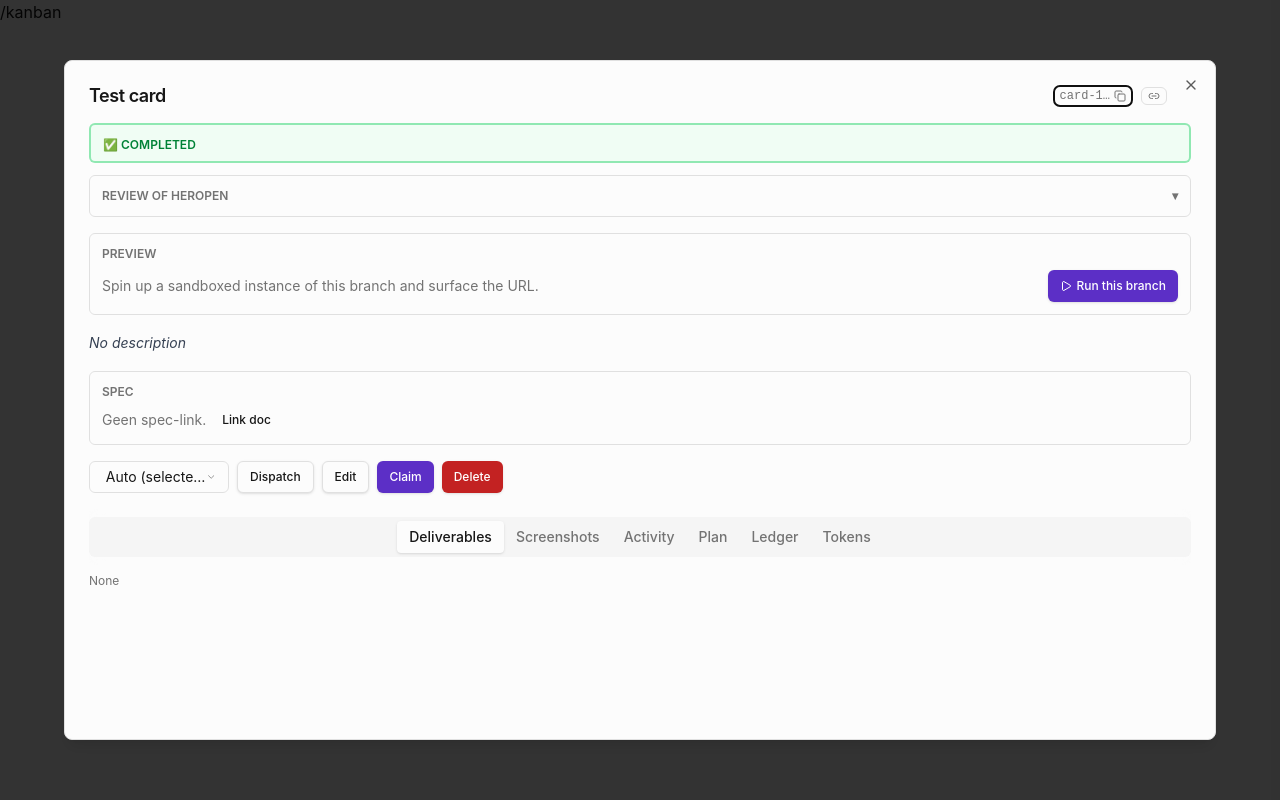
Test: CardDrawer Done actions panel — collapsed by default › expands the feedback control when the toggle is clicked, and collapses it again on a second click
// First click → expand
Click the button with test id "done-actions-toggle" at (165, 196), box [102,188,1178,204]
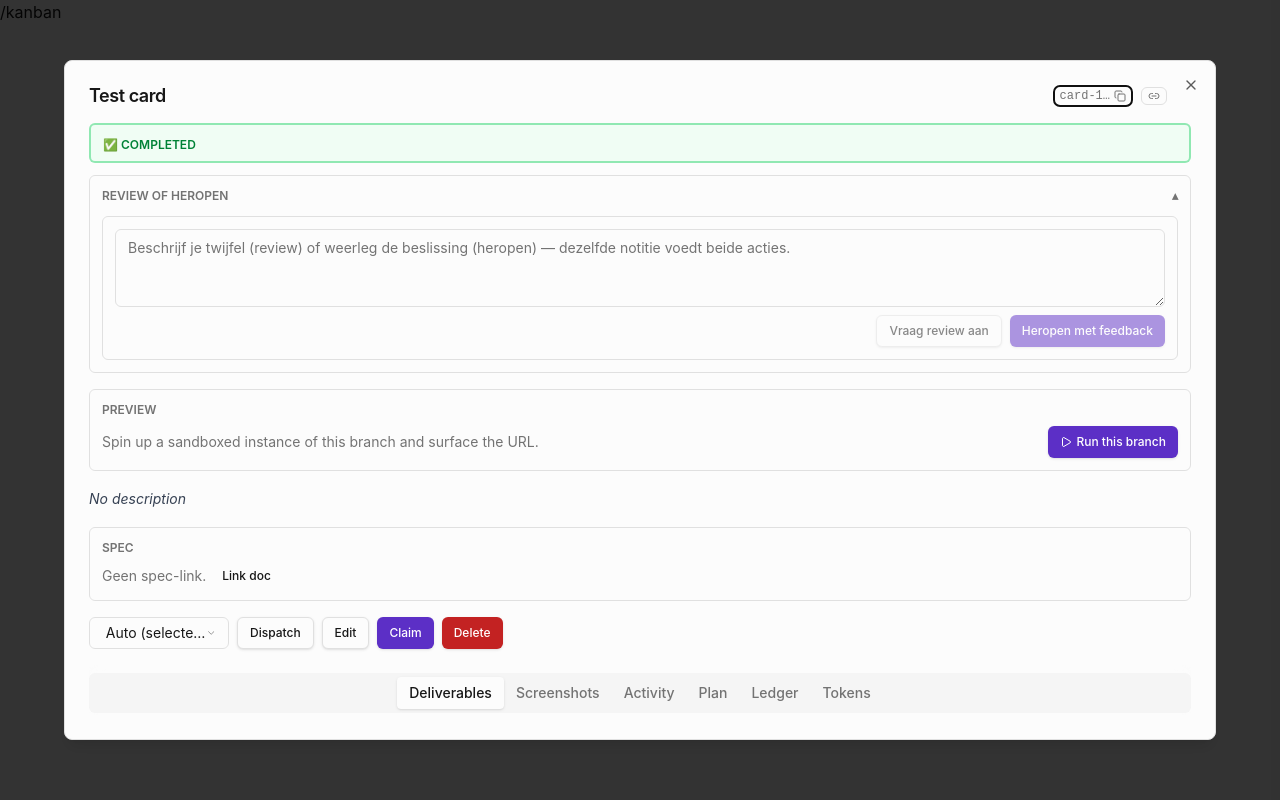
expect the element with test id "feedback-control" is shown: met, box [102,216,1178,360]
// Second click → collapse
Click the button with test id "done-actions-toggle" at (165, 196), box [102,188,1178,204]
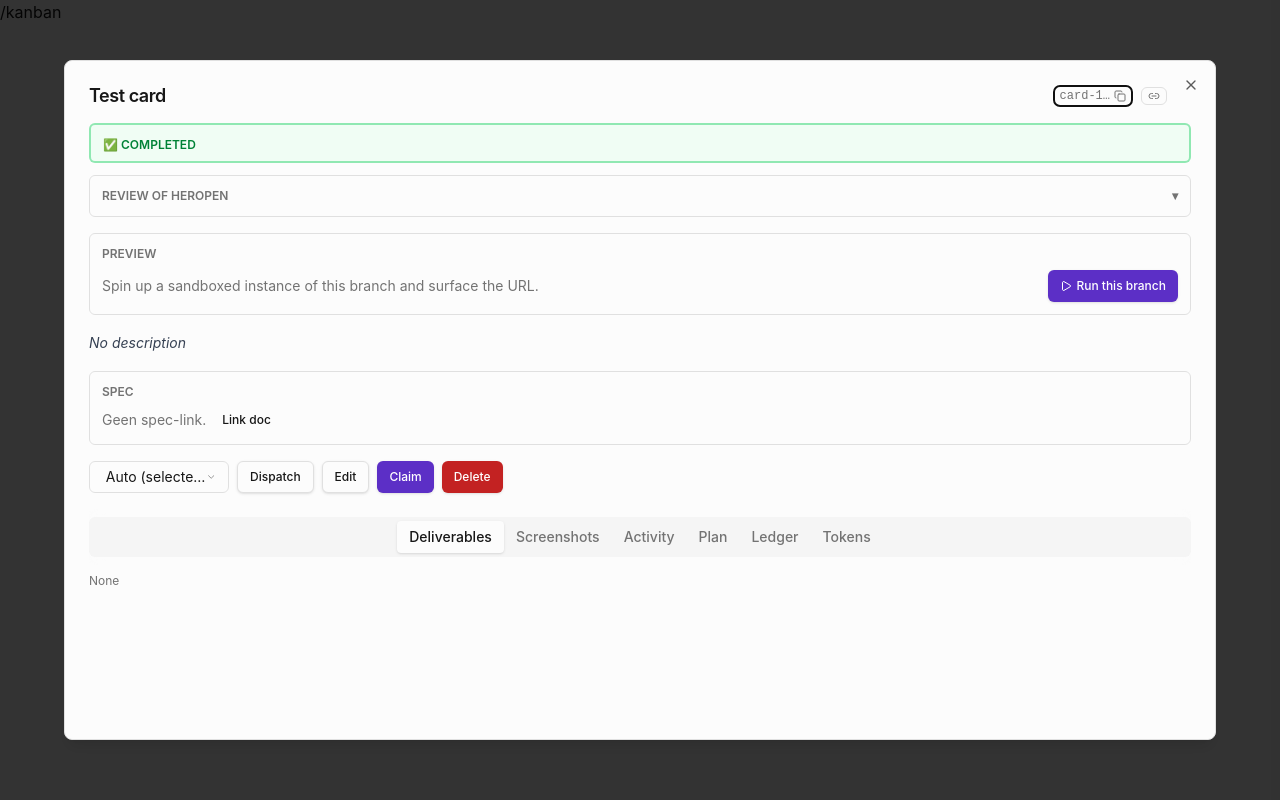
expect the element with test id "feedback-control" is gone: met
